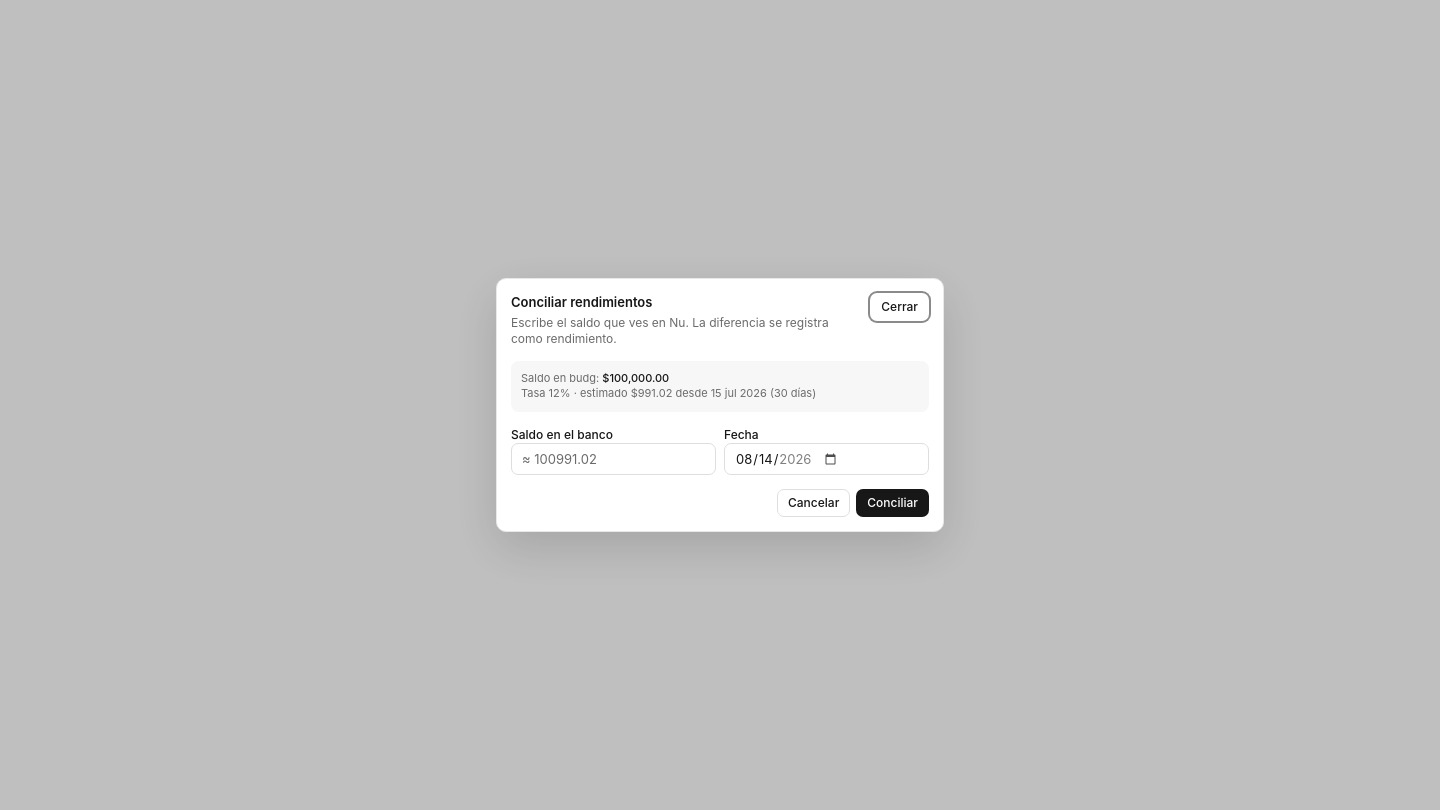
Test case: YieldReconciliationPanel › prefills the estimate and records the difference as yield
This screenshot has width=1440, height=810.
Expected: the text "Tasa 12% · estimado $991.02 desde 15 jul 2026 (30 días)" is shown, [521,386,816,400]
Expected: the field labelled "Saldo en el banco" is empty, [511,443,716,475]
Click the button "Conciliar" at (893, 503), box [856,489,929,517]
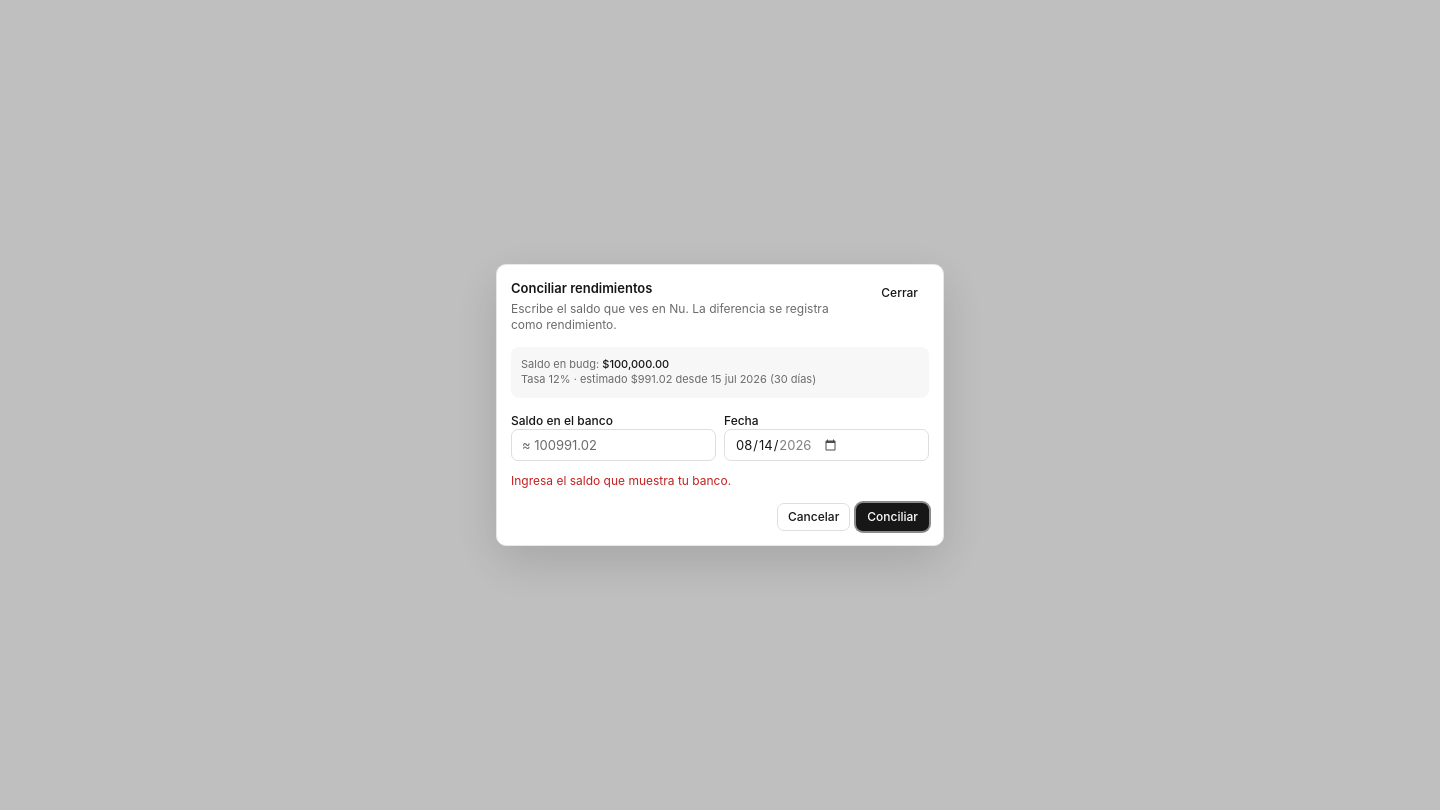
Result: the message reads "Ingresa el saldo que muestra tu banco." at [511,473,731,488]
Type "100991.02" into the field labelled "Saldo en el banco" at (614, 445), box [511,429,716,461]
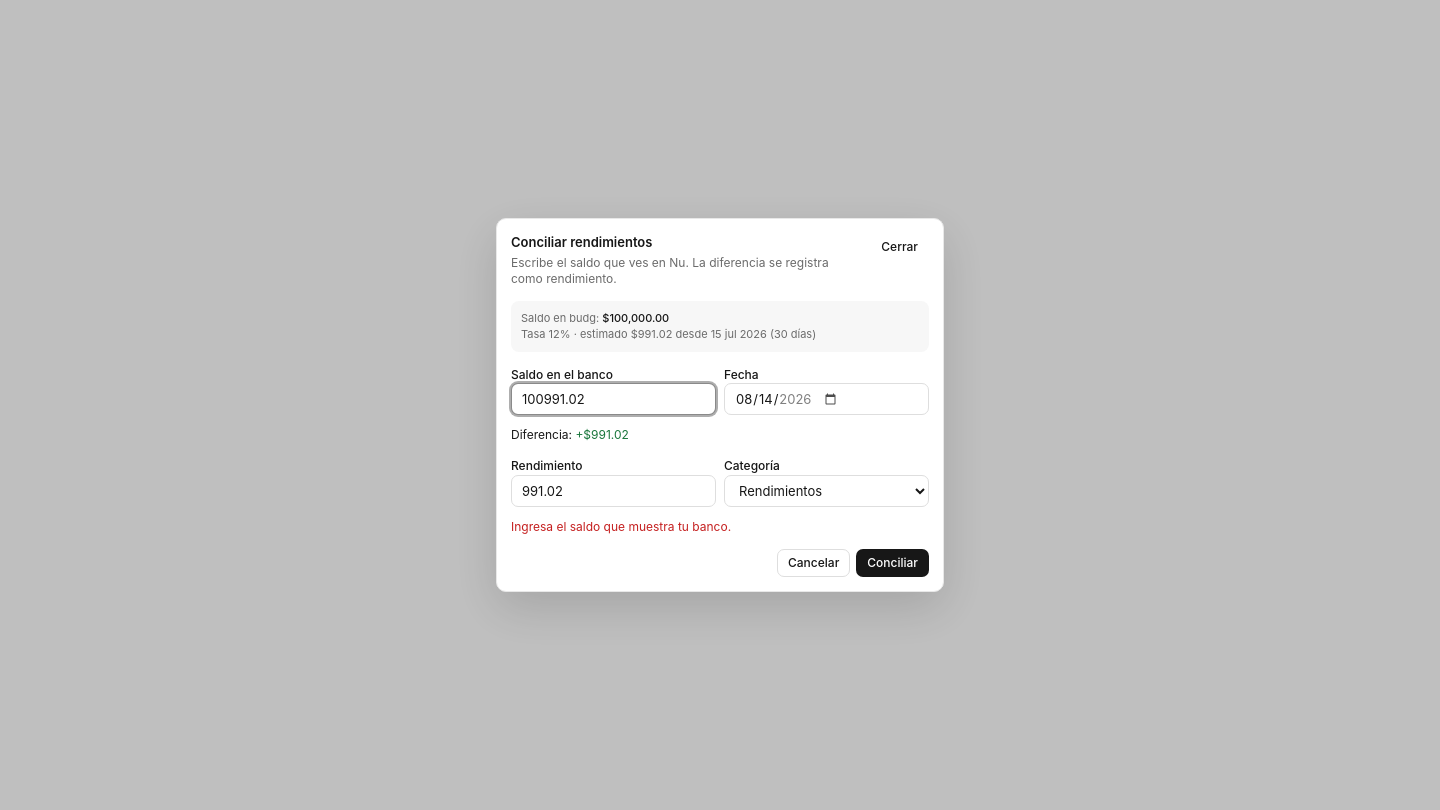
Result: the field labelled "Rendimiento" holds "991.02" at [511,475,716,507]
Result: the dropdown labelled "Categoría" shows "Rendimientos" at [724,475,929,507]
Click the button "Conciliar" at (893, 563), box [856,549,929,577]
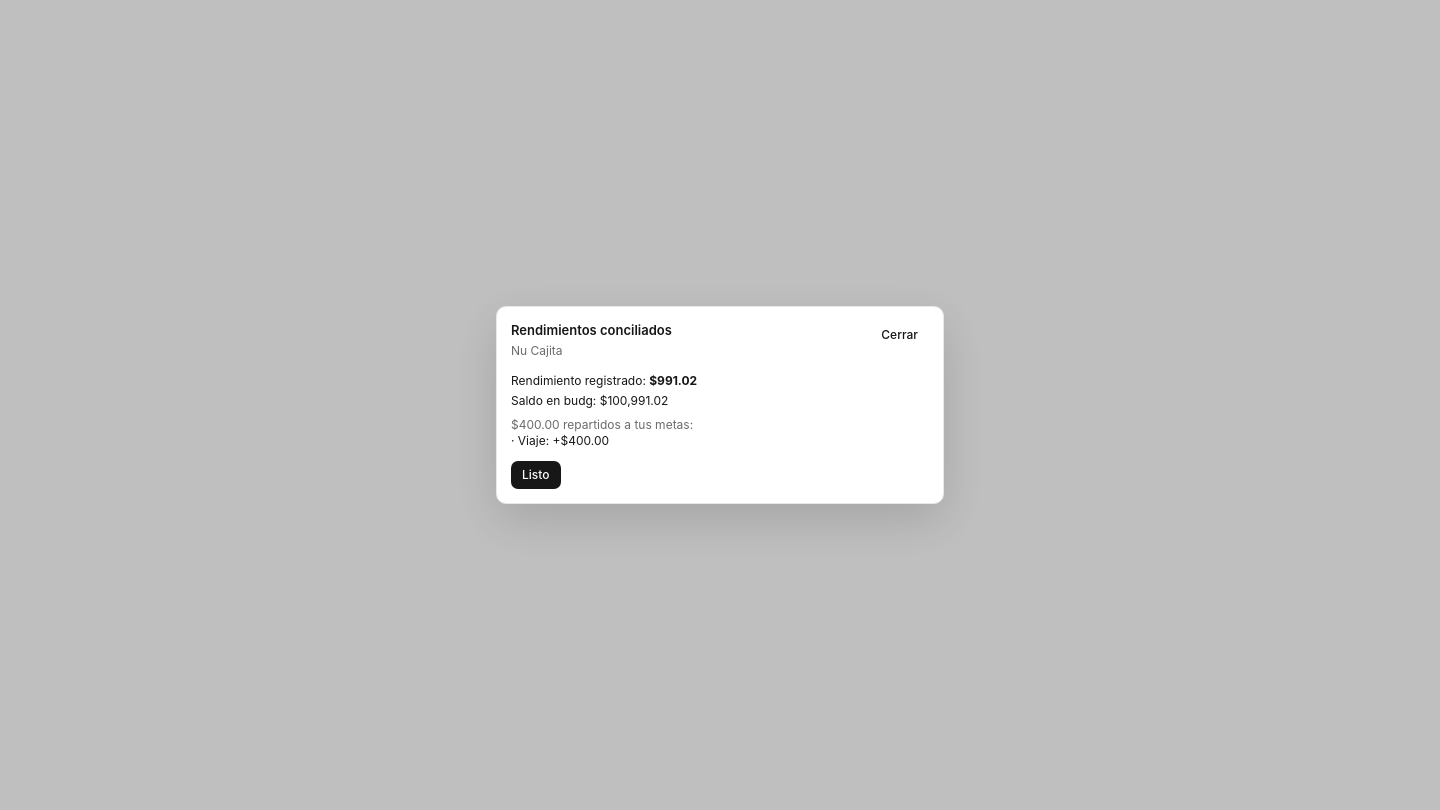
Result: the text "$400.00 repartidos a tus metas:" is shown at [511,417,693,432]
Result: the text "· Viaje: +$400.00" is shown at [511,433,609,448]
